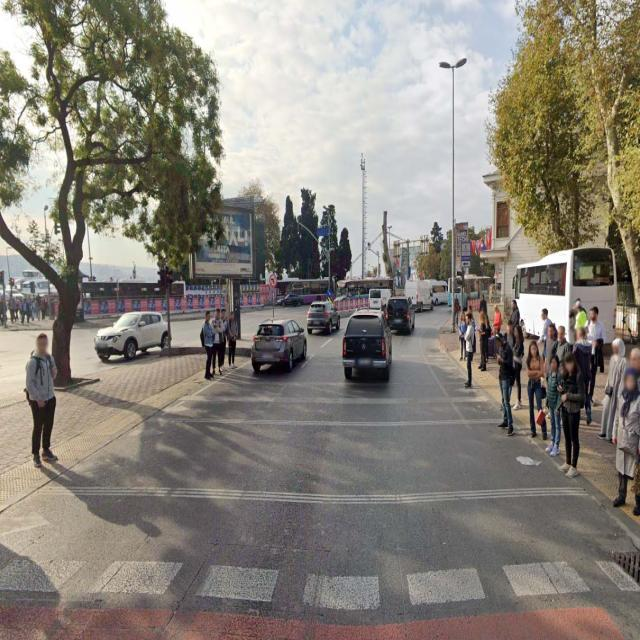soladonulmez: (268, 274, 276, 288)
